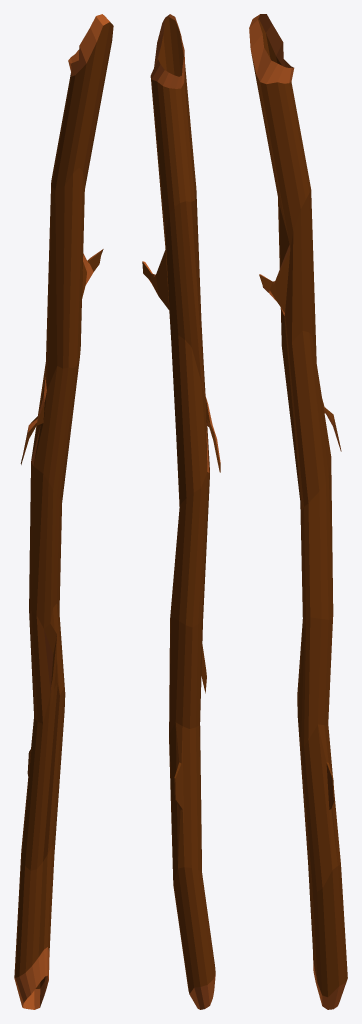
File: stick1.fbx
The picture shows the model from 3 angles, left to right: view 1: azimuth 90°, elevation 25°; view 2: azimuth 210°, elevation 25°; view 3: azimuth 270°, elevation 25°; orthographic projection. The views are drawn at different scales.
Visible parts, largest first — view 1: Cylinder.043; view 2: Cylinder.043; view 3: Cylinder.043.
Boxes of the visible parts, <box> form: Cylinder.043: <box>14,14,113,1009</box>; Cylinder.043: <box>142,14,220,1009</box>; Cylinder.043: <box>249,14,347,1009</box>.
Size of the model in its own units: 0.1048 by 2.15 by 0.1941.
